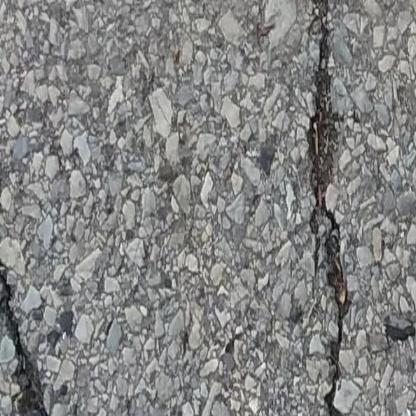Cracks: (307, 0, 356, 416), (0, 156, 53, 416)
